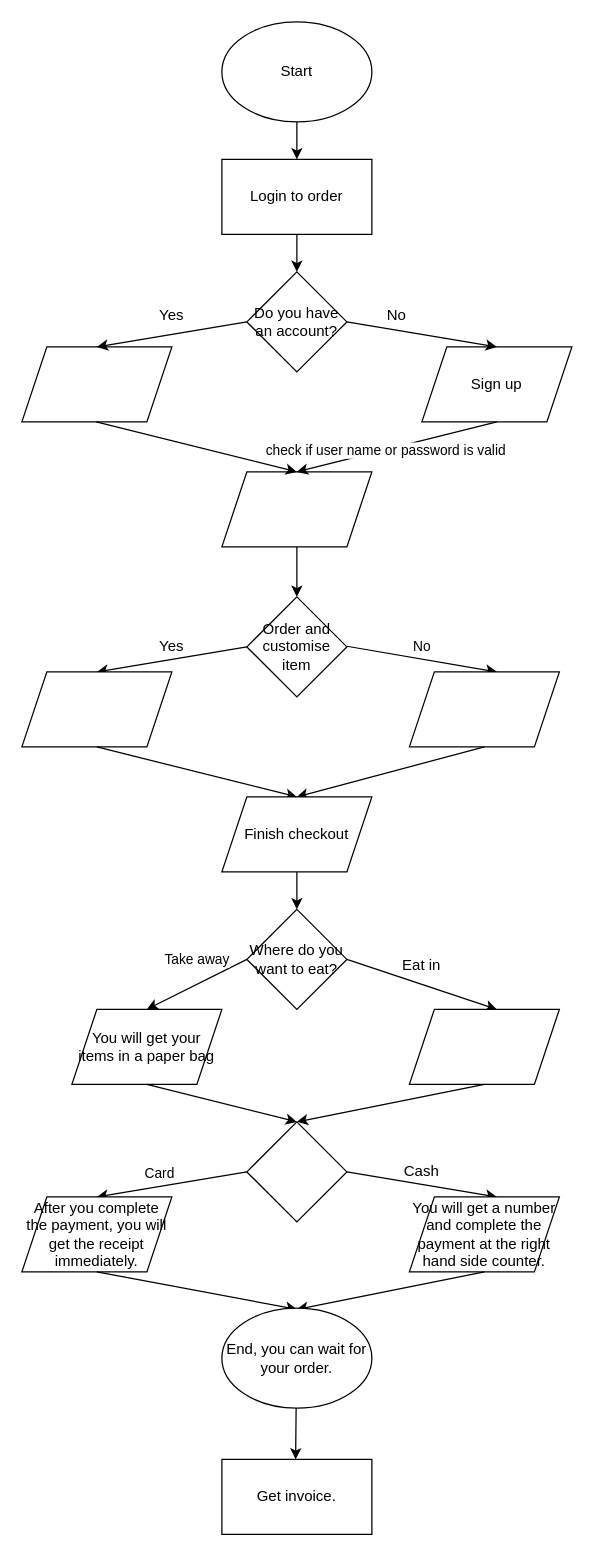
Image size: 594x1556. Some labels were removed from this diagram. Here are the shapes that lost their labels. From the top down, the centre of each, then its label:
At [96,384]: "Sign in".
At [296,509]: "Login successfully".
At [96,709]: "Add sauce, ice".
At [483,709]: "Finish order".
At [483,1046]: "You will get your items in a plastic tray(you need to return the tray)".
At [296,1171]: "How do you want to pay?".
